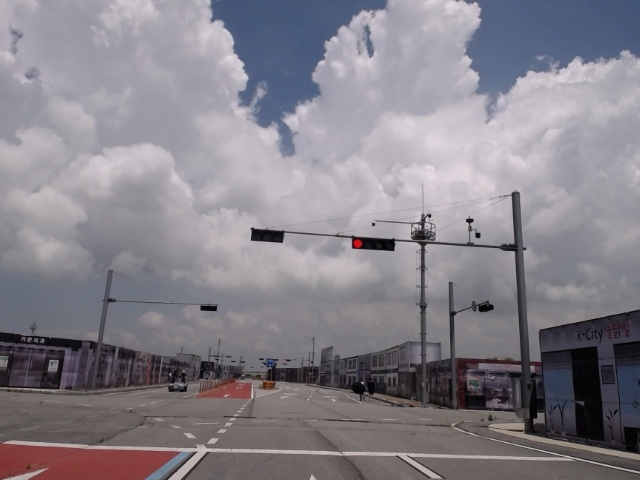red_4: (352, 238, 394, 251)
